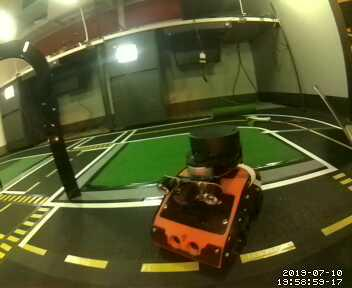pheeno: (148, 126, 264, 277)
